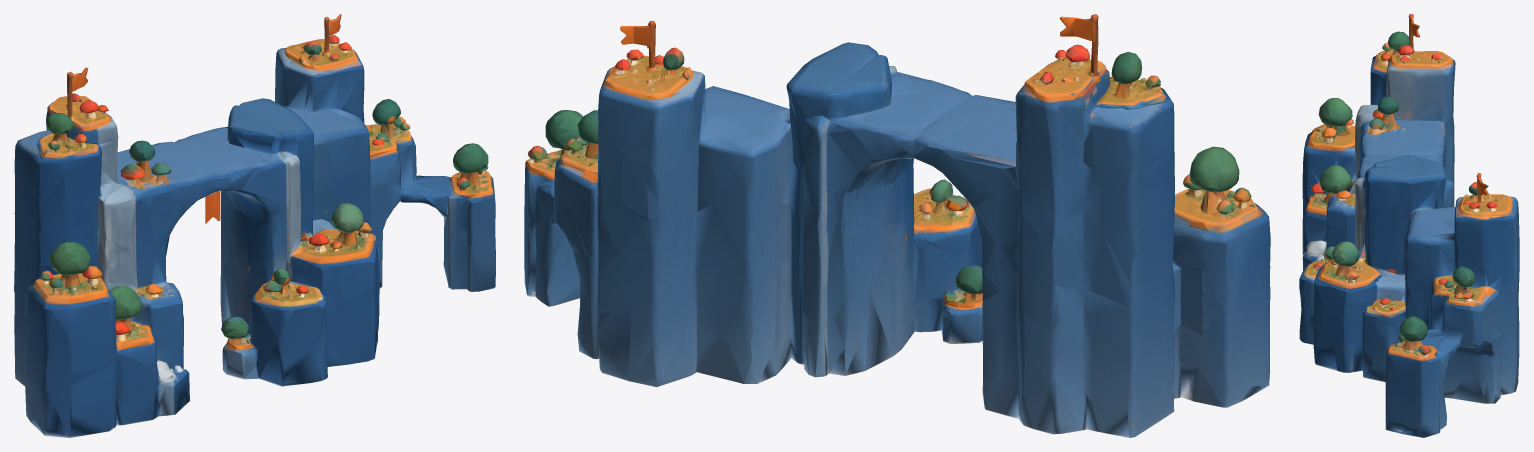
The model's file is castle.glb.
3 renders of one model, left to right at view 1: azimuth 30°, elevation 25°; view 2: azimuth 150°, elevation 25°; view 3: azimuth 270°, elevation 25°, orthographic. The views are drawn at different scales.
Visible parts, largest first — view 1: mesh_node; view 2: mesh_node; view 3: mesh_node.
Part boxes in pixels (x1,y1,x2,y2): mesh_node: (14, 14, 495, 437); mesh_node: (524, 14, 1270, 437); mesh_node: (1299, 14, 1519, 437).
Bounding box in the file's own units: 1.9 × 1.09 × 0.8645.
Materials: 1 (1 with a texture image).
